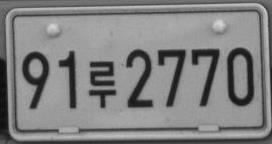0: (226, 45, 254, 107)
1: (55, 49, 84, 109)
2: (125, 48, 153, 108)
7: (157, 48, 187, 106), (191, 47, 219, 107)
9: (21, 50, 50, 109)
루: (88, 60, 116, 108)
